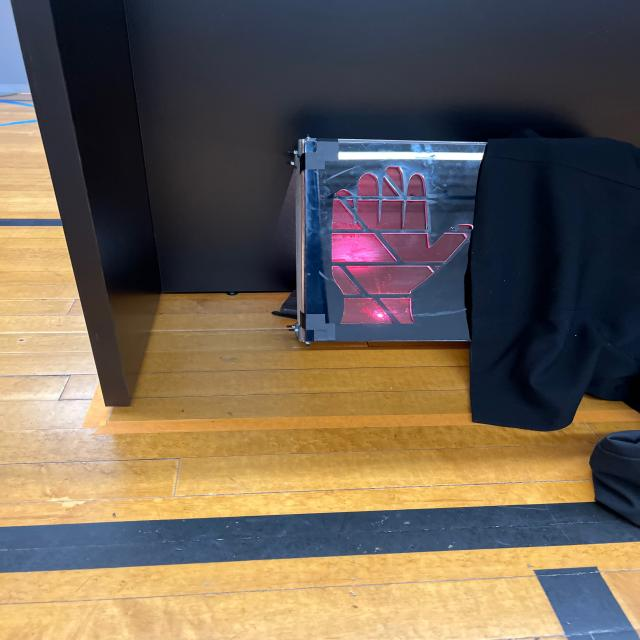stop: (308, 140, 472, 342)
